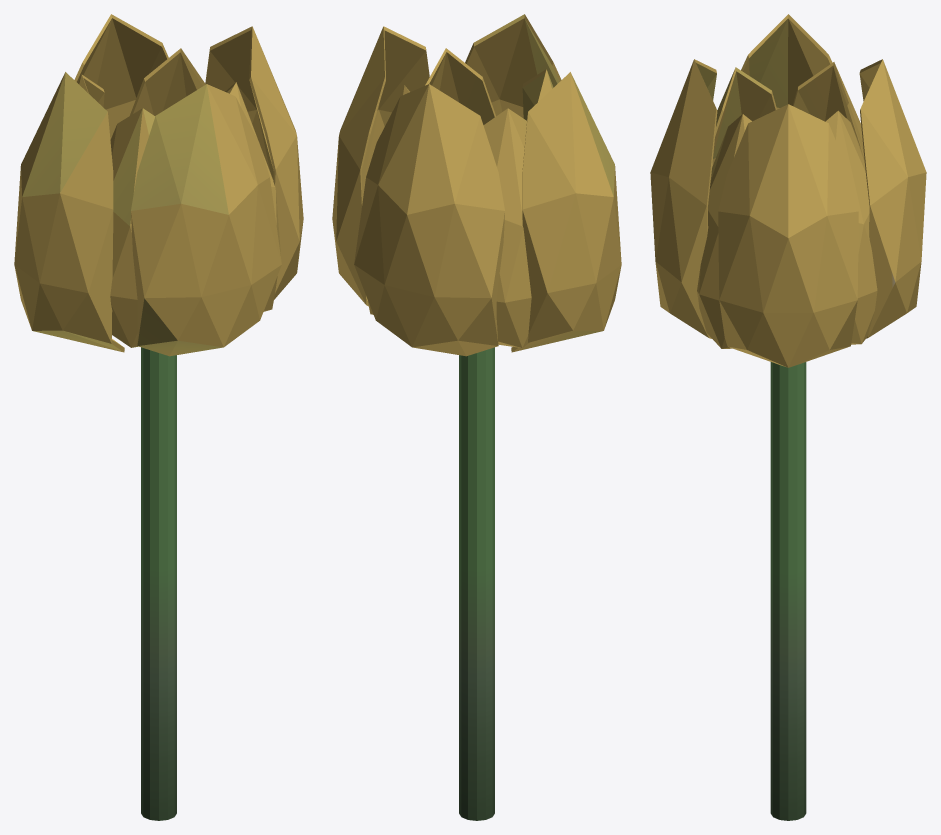
File: Tulip1.fbx
The picture shows the model from 3 angles, left to right: view 1: azimuth 30°, elevation 25°; view 2: azimuth 150°, elevation 25°; view 3: azimuth 270°, elevation 25°; orthographic projection.
Parts seen in each view (by area): view 1: Icosphere.018; view 2: Icosphere.018; view 3: Icosphere.018.
Part boxes in pixels (x1,y1,x2,y2): Icosphere.018: (14, 14, 303, 820); Icosphere.018: (332, 14, 621, 820); Icosphere.018: (650, 14, 926, 820).
Size of the model in its own units: 86.44 by 231 by 76.55.
